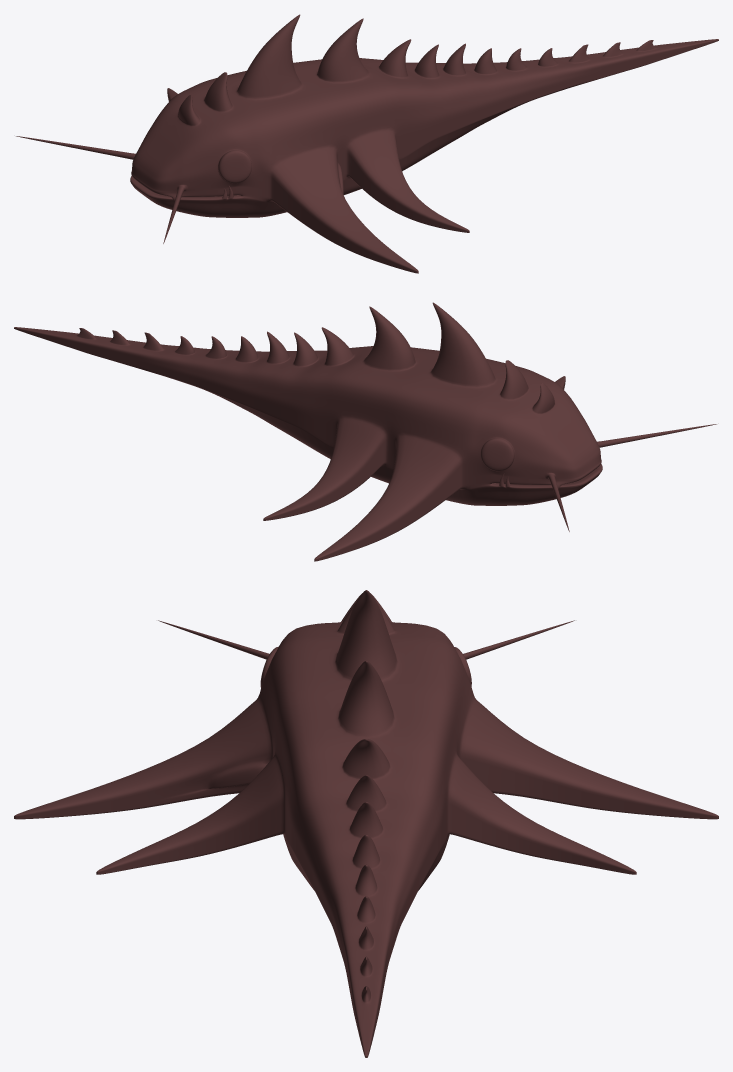
File: demo-1-enemy1.fbx
The picture shows the model from 3 angles, top to bottom: view 1: azimuth 30°, elevation 25°; view 2: azimuth 150°, elevation 25°; view 3: azimuth 270°, elevation 25°; orthographic projection. The views are drawn at different scales.
Parts seen in each view (by area): view 1: Korodilion_Geo1; view 2: Korodilion_Geo1; view 3: Korodilion_Geo1.
Part boxes in pixels (x1=…): Korodilion_Geo1: x1=16, y1=14, x2=718, y2=273; Korodilion_Geo1: x1=14, y1=302, x2=716, y2=561; Korodilion_Geo1: x1=14, y1=590, x2=718, y2=1057.
Bounding box in the file's own units: 71.88 × 18.45 × 49.52.
